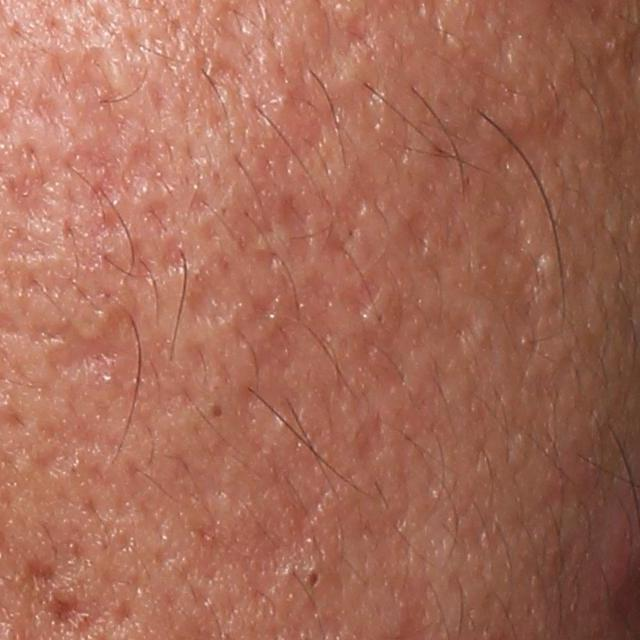atrophic_scar: (234, 83, 391, 244), (179, 471, 356, 599), (27, 307, 211, 414), (63, 44, 129, 206), (481, 209, 565, 330), (487, 103, 611, 166), (294, 3, 379, 83), (184, 240, 239, 326), (19, 539, 81, 594), (119, 140, 171, 201), (3, 142, 47, 214), (101, 235, 158, 290), (189, 47, 243, 95), (42, 592, 97, 638), (277, 198, 312, 267), (139, 192, 185, 242), (338, 274, 385, 318), (252, 324, 295, 372), (352, 410, 386, 469), (435, 310, 479, 355), (405, 207, 437, 266), (159, 234, 194, 274), (105, 596, 139, 627), (246, 289, 273, 325)
comedo: (299, 563, 329, 593), (205, 396, 232, 423)
